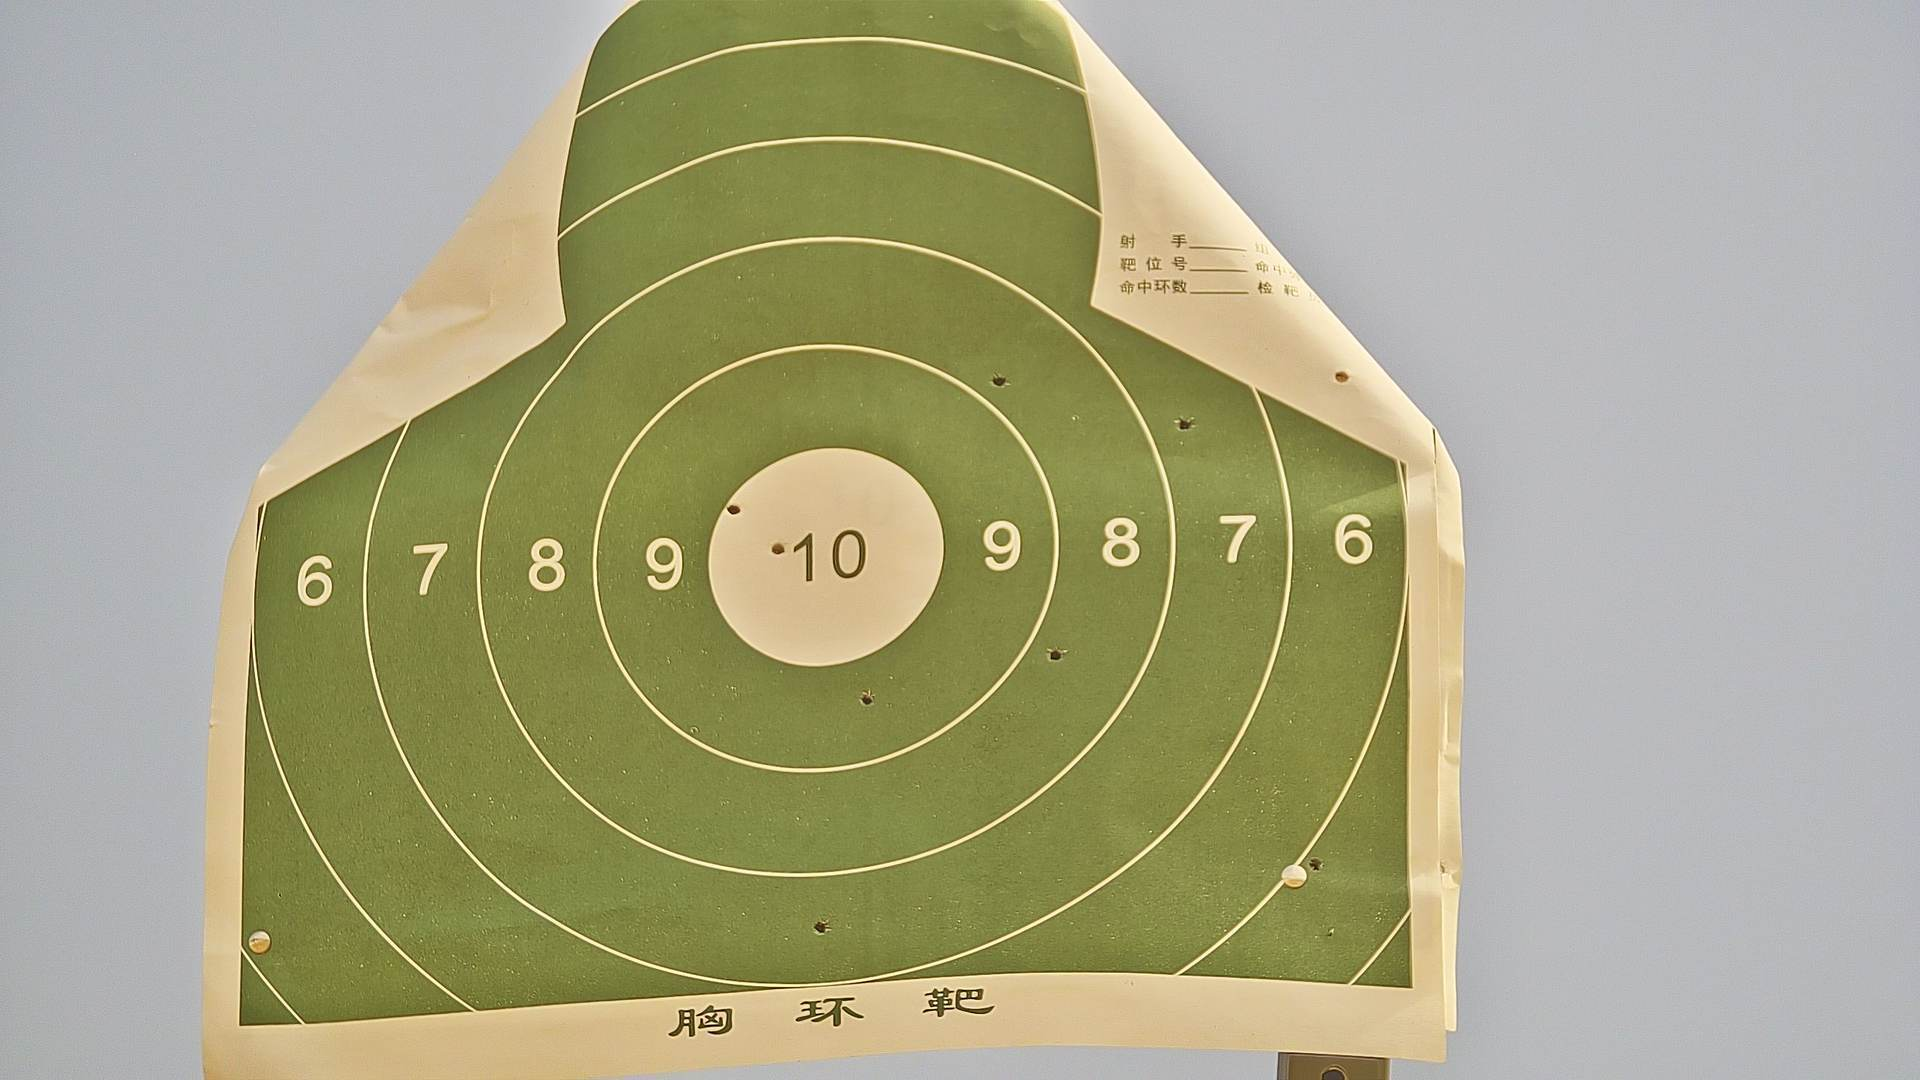hole: (1174, 417, 1197, 433), (814, 919, 829, 936), (725, 502, 742, 517), (858, 692, 876, 707), (992, 375, 1007, 389), (1307, 858, 1324, 872), (1046, 647, 1062, 659), (771, 542, 785, 555)
kernel: (822, 555, 827, 563)
target: (253, 5, 1414, 992)
ten: (705, 444, 944, 669)
